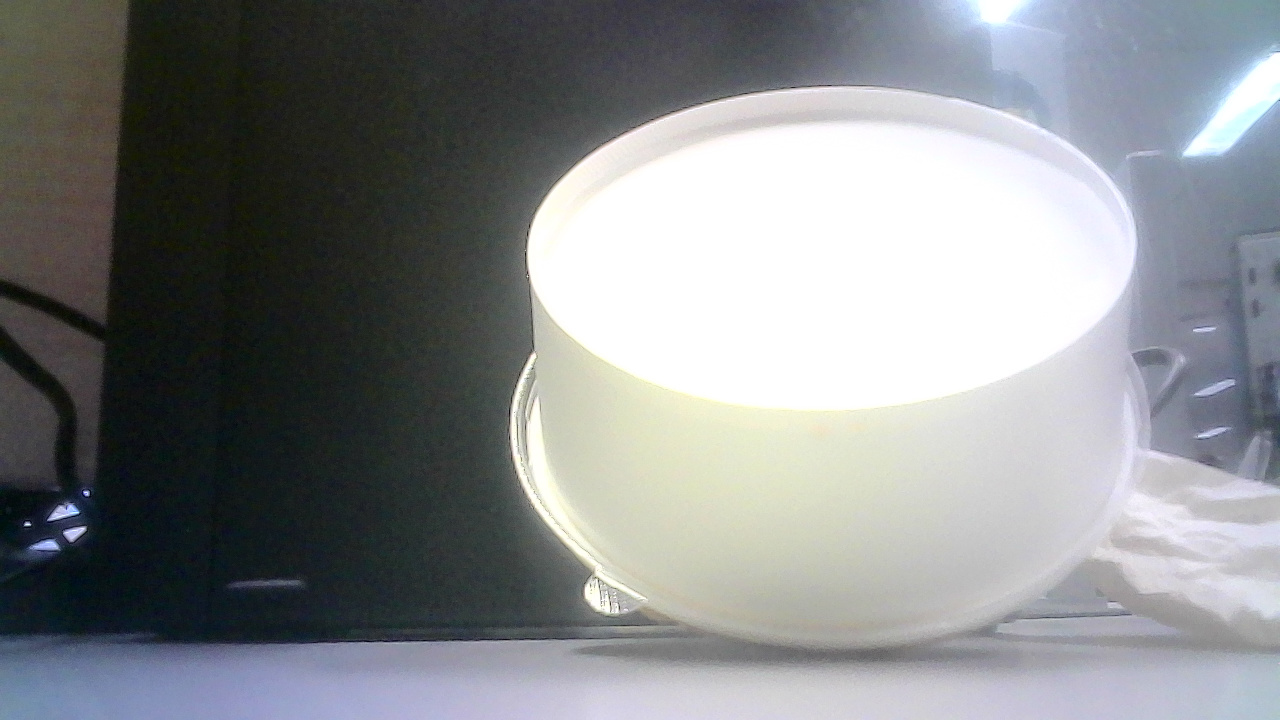Undefined_Waste: (491, 71, 1139, 662)
